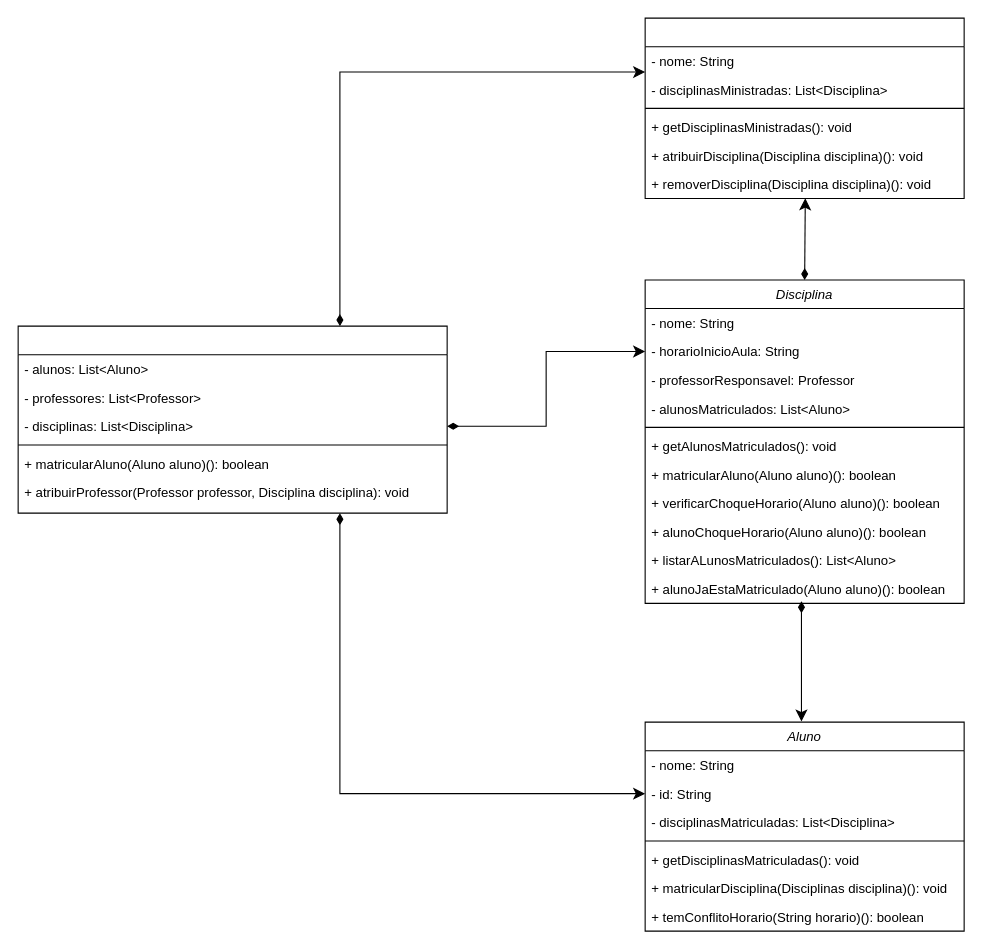
The diagram is 982 pixels wide and 949 high, and some of its shapes have lost their labels. Each missing label, with the box of its shape:
Controle Academico: (17, 325, 447, 513)
Professor: (644, 17, 964, 199)
